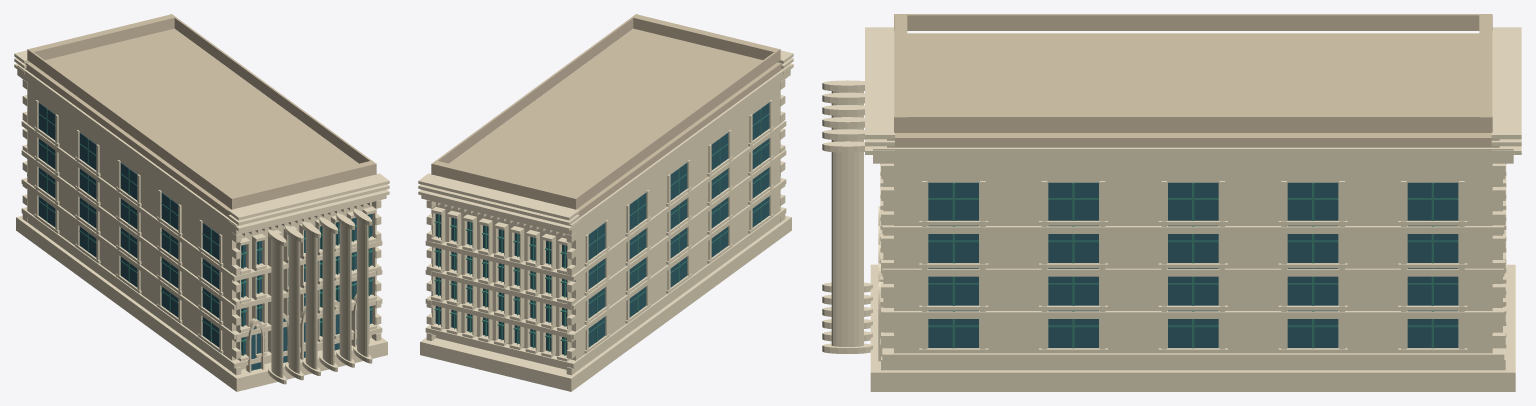
Rendered from bank-taiwan.glb.
3 views of the same model, side by side, from view 1: azimuth 30°, elevation 25°; view 2: azimuth 150°, elevation 25°; view 3: azimuth 270°, elevation 25° (orthographic). The views are drawn at different scales.
Visible parts, largest first — view 1: bank-taiwan; view 2: bank-taiwan; view 3: bank-taiwan.
Part boxes in pixels (x1,y1,x2,y2): bank-taiwan: (14,14,389,391); bank-taiwan: (418,14,793,391); bank-taiwan: (822,14,1521,391).
Bounding box in the file's own units: 17.32 × 20.4 × 47.44.
